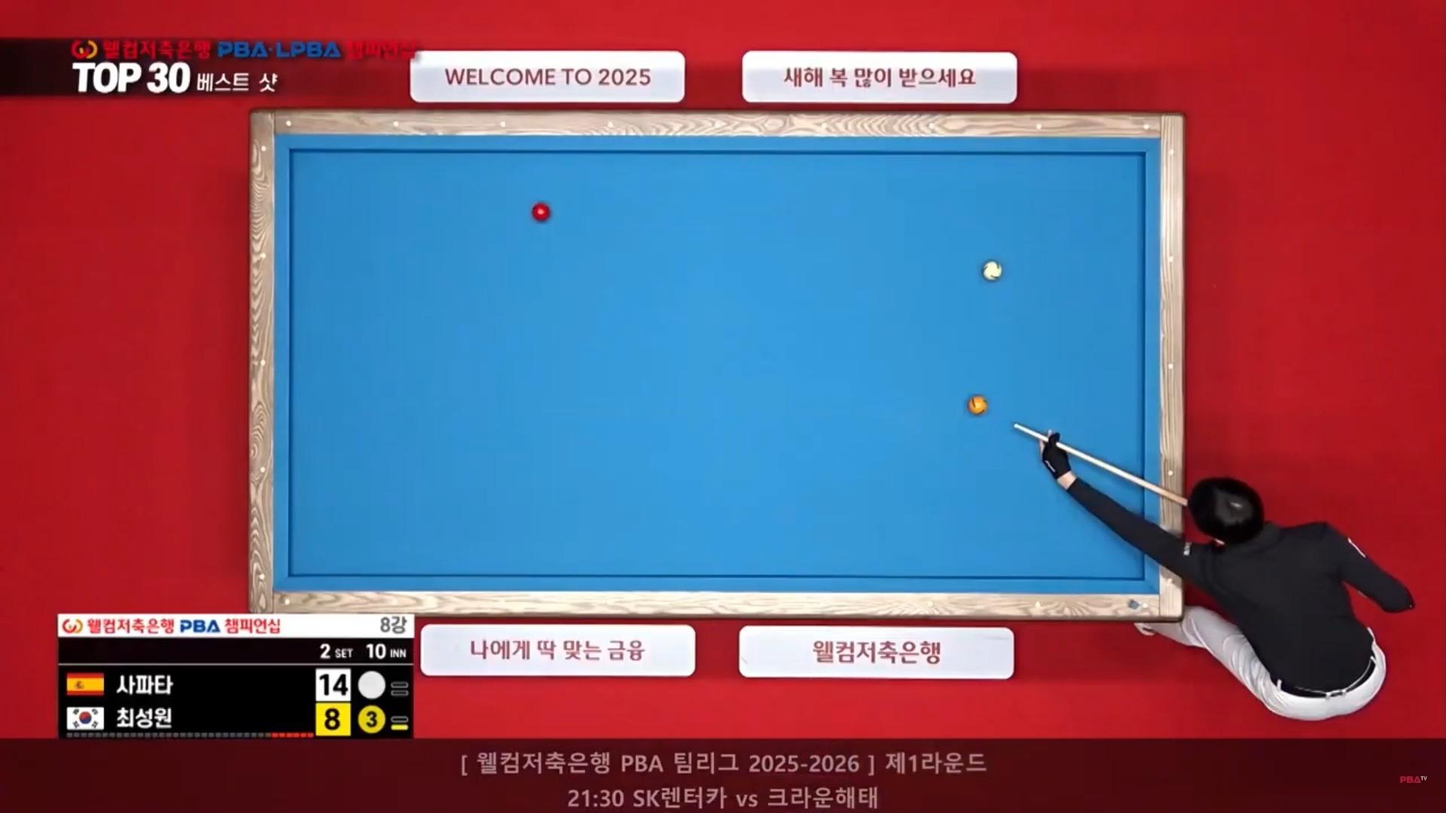Red: (533, 205, 556, 223)
White: (980, 261, 1004, 281)
Yellow: (964, 396, 989, 416)
